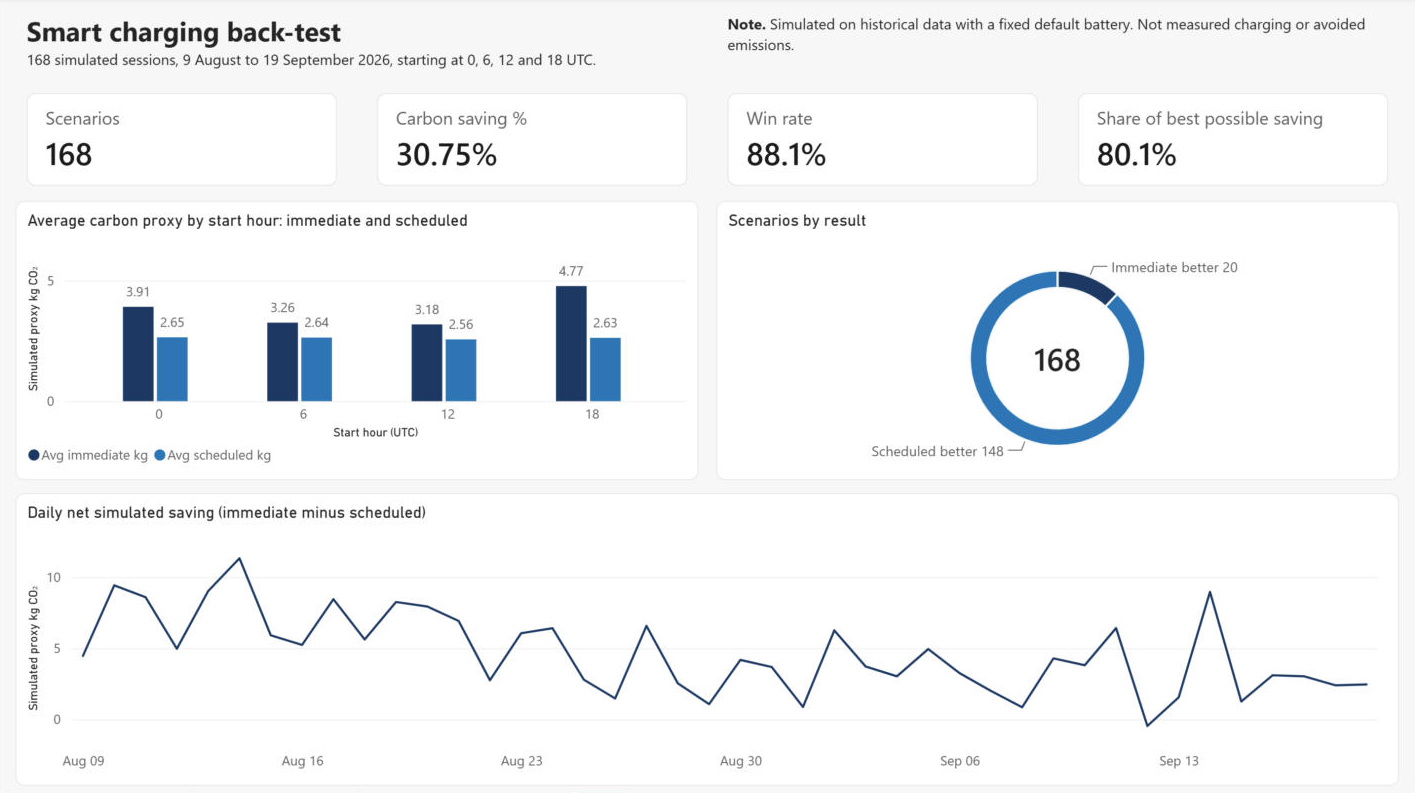

The page's visual inventory and layout, read from the dashboard file:
{"tool":"powerbi","page":{"name":"Smart charging back-test","canvas":[1280,720],"ordinal":2},"visuals":[{"type":"textbox","box":[16,8,616,64],"z":0},{"type":"textbox","box":[648,8,616,64],"z":1},{"type":"cardVisual","fields":{"Data":["Charging.Scenarios"]},"box":[16,80,300,96],"z":2},{"type":"cardVisual","fields":{"Data":["Charging.Carbon saving %"]},"box":[332,80,300,96],"z":3},{"type":"cardVisual","fields":{"Data":["Charging.Win rate"]},"box":[648,80,300,96],"z":4},{"type":"cardVisual","fields":{"Data":["Charging.Share of best possible saving"]},"box":[964,80,300,96],"z":5},{"type":"clusteredColumnChart","title":"Average carbon proxy by start hour: immediate and scheduled","fields":{"Category":["Charging.start_hour"],"Y":["Charging.Avg immediate kg","Charging.Avg scheduled kg"]},"box":[16,184,616,252],"z":6},{"type":"donutChart","title":"Scenarios by result","fields":{"Category":["Charging.result"],"Y":["Charging.Scenarios"]},"box":[648,184,616,252],"z":7},{"type":"lineChart","title":"Daily net simulated saving (immediate minus scheduled)","fields":{"Category":["DimDate.Date"],"Y":["Charging.Total saving kg"]},"box":[16,448,1248,264],"z":8}]}

Visuals, with their boxes in screenshot pixels (x1, y1, x2, y2), scaled from the page's 1280x720 canvas onto the 1415x793 screenshot:
textbox: [18, 9, 699, 79]
textbox: [716, 9, 1397, 79]
cardVisual - Charging.Scenarios: [18, 88, 349, 194]
cardVisual - Charging.Carbon saving %: [367, 88, 699, 194]
cardVisual - Charging.Win rate: [716, 88, 1048, 194]
cardVisual - Charging.Share of best possible saving: [1066, 88, 1397, 194]
"Average carbon proxy by start hour: immediate and scheduled" clusteredColumnChart: [18, 203, 699, 480]
"Scenarios by result" donutChart: [716, 203, 1397, 480]
"Daily net simulated saving (immediate minus scheduled)" lineChart: [18, 493, 1397, 784]
